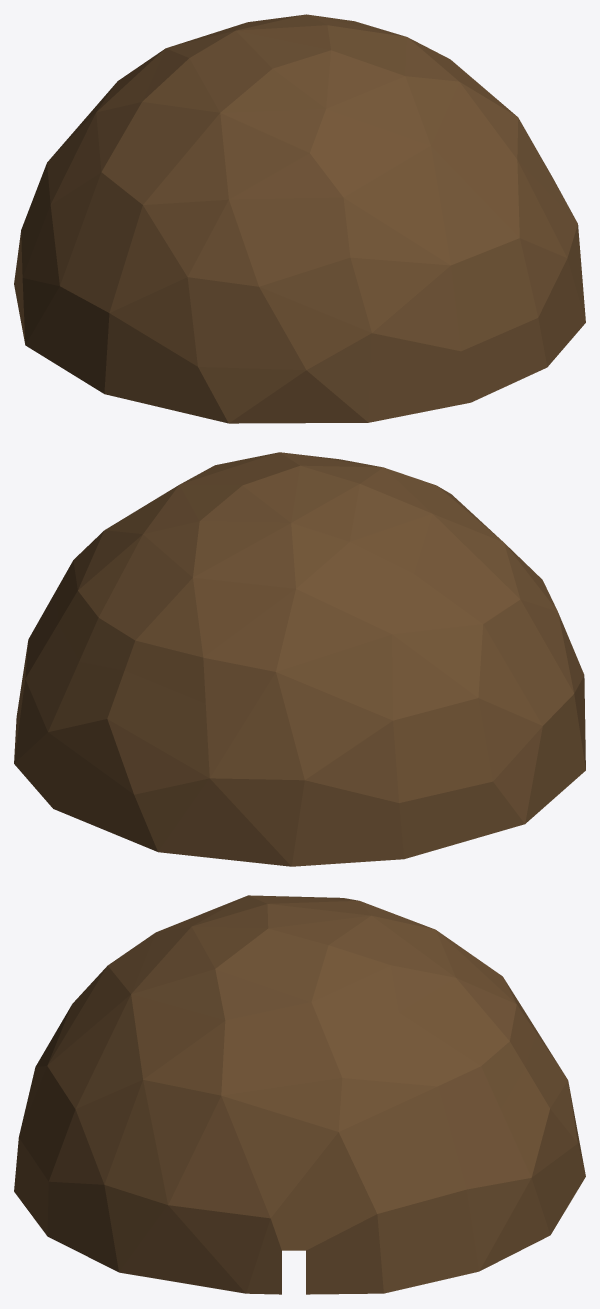
The model's file is cave.fbx.
The picture shows the model from 3 angles, top to bottom: view 1: azimuth 30°, elevation 25°; view 2: azimuth 150°, elevation 25°; view 3: azimuth 270°, elevation 25°; orthographic projection. The views are drawn at different scales.
Parts seen in each view (by area): view 1: cave; view 2: cave; view 3: cave.
Boxes of the visible parts, bbox=[...] form: cave: bbox=[14, 14, 585, 423]; cave: bbox=[14, 452, 585, 866]; cave: bbox=[14, 895, 585, 1294].
Bounding box in the file's own units: 9629 × 4907 × 9872.
